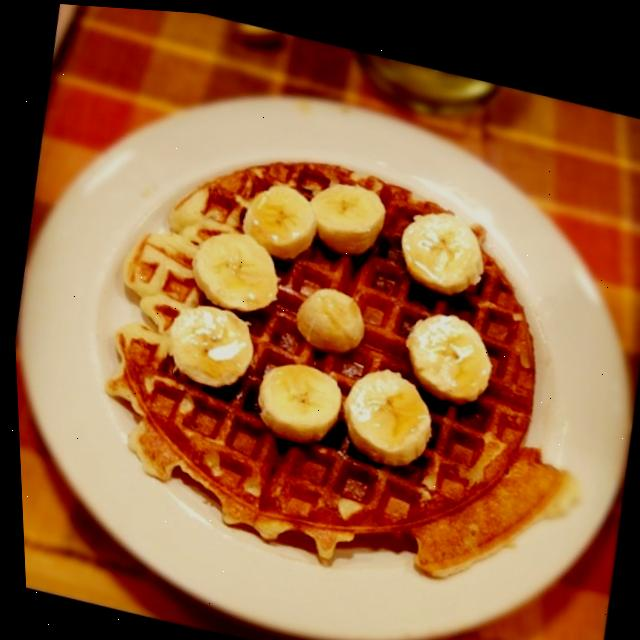炸货点心: (1, 24, 640, 640)
蛋糕甜品: (1, 24, 640, 640)
